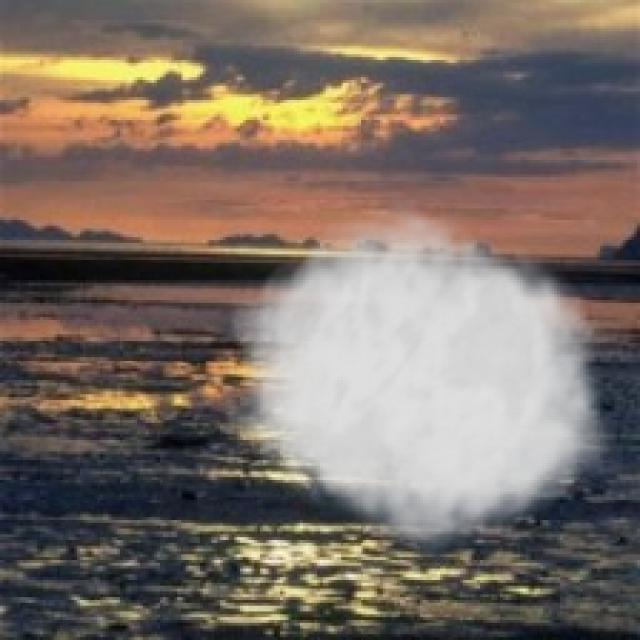smoke: (226, 197, 623, 557)
